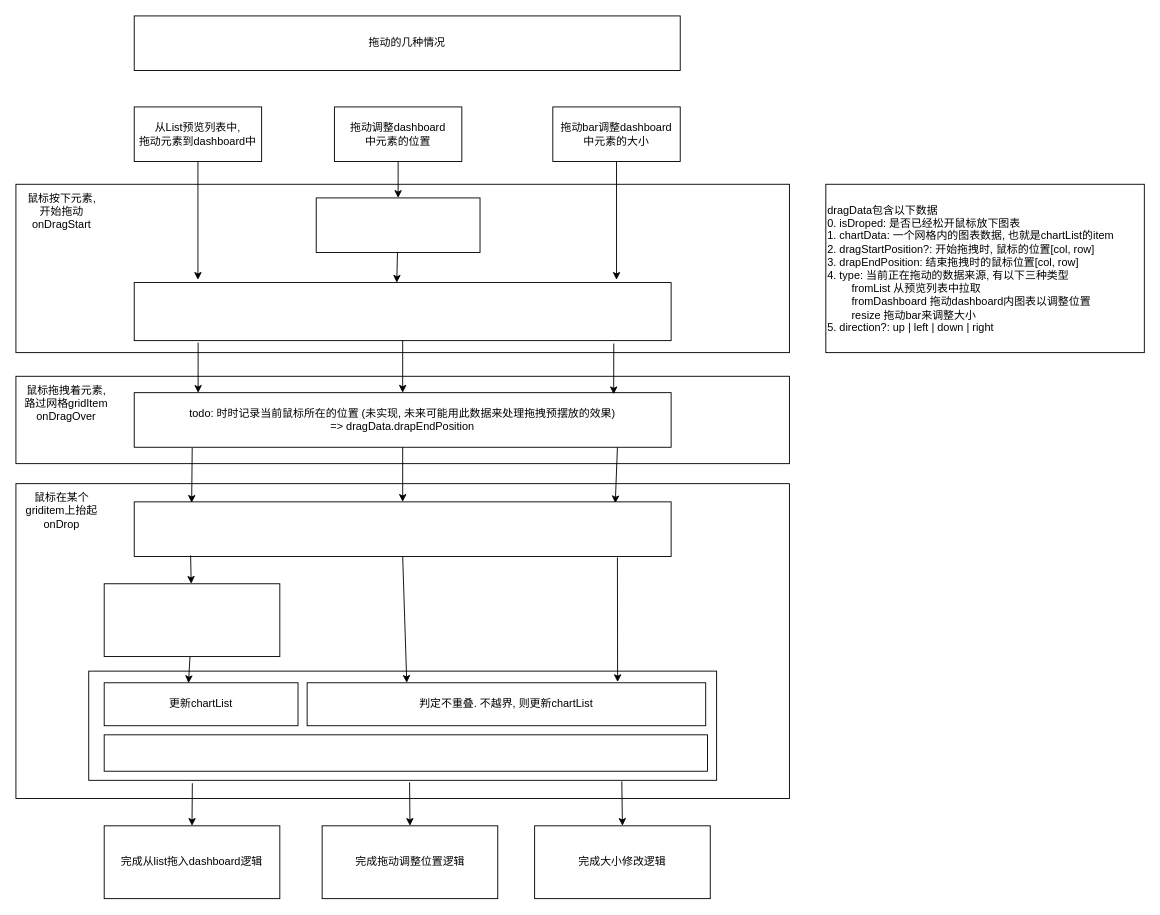
Some shapes in this 1160 by 915 pixel diagram are drawn without their labels. Here are the shapes that lost their labels. From the top down, the centre of each, then its label:
the point at 397,225: 计算触发时鼠标 所在网格位置 dragData. dragStartPosition
the point at 402,311: 记录图表数据dragData. chartData
the point at 402,528: 松开拖拽的鼠标 => dragData. isDroped
the point at 191,620: 松开鼠标的位置, 没有元素则直接放置元素, 有元素则将此元素chat数据更新为 dragData. chartData.chart (位置及大小数据不改变)
the point at 405,752: 记录每次chartList更新的深拷贝快照, 用于实现撤回重做功能
